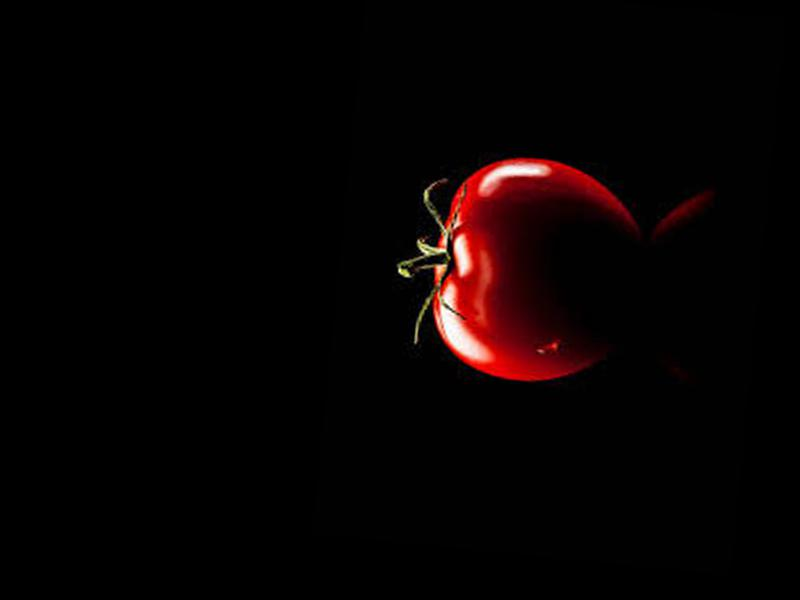Tomato: (418, 149, 641, 390)
